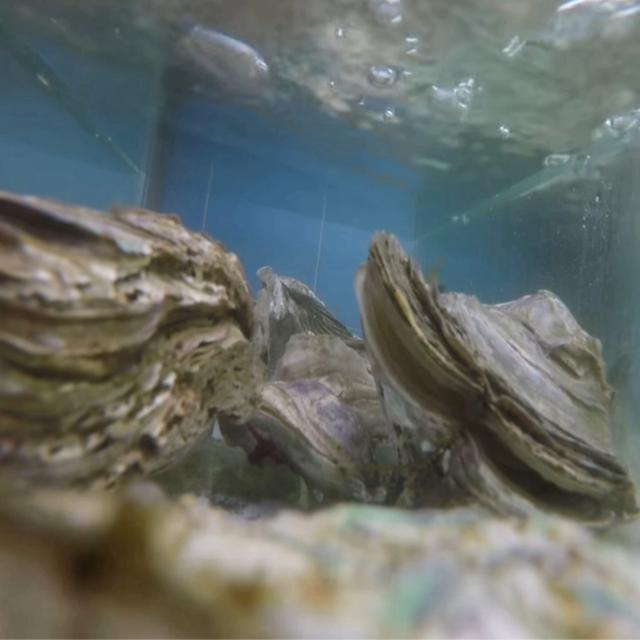Oyster-Closed: (0, 190, 256, 520), (250, 334, 416, 509)
Oyster-Indeterminate: (0, 481, 640, 640)
Oyster-Open: (356, 231, 640, 538)
